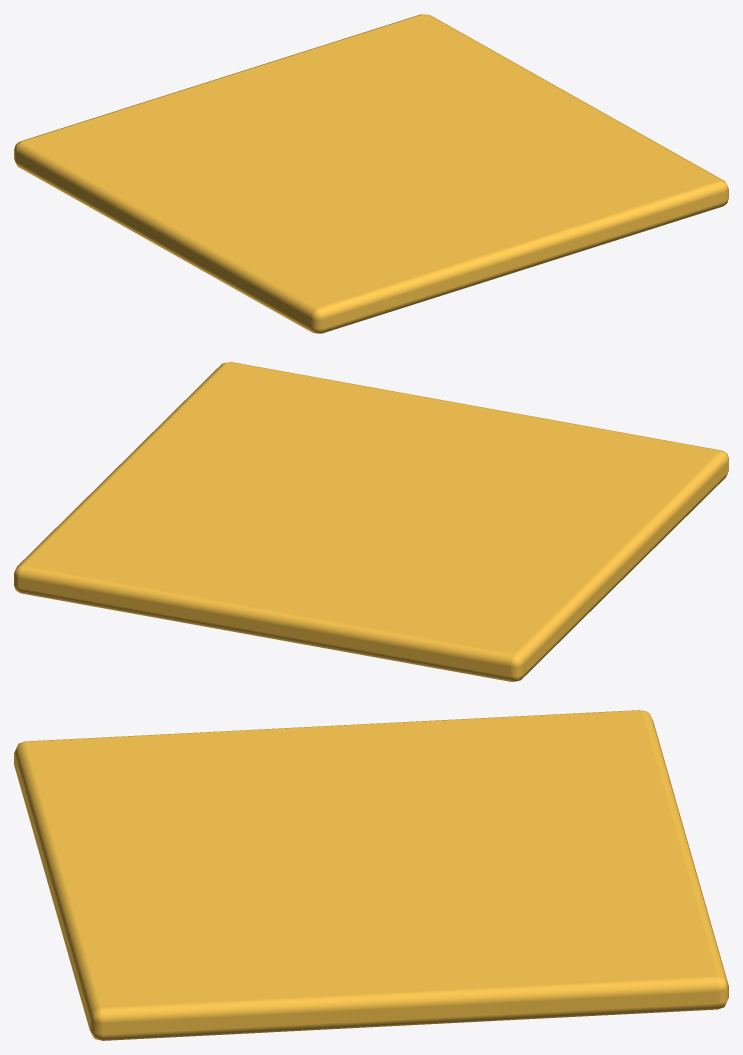
Rendered from cheese.glb.
3 views of the same model, one above another, from view 1: azimuth 30°, elevation 25°; view 2: azimuth 150°, elevation 25°; view 3: azimuth 270°, elevation 25° (orthographic). The views are drawn at different scales.
Parts seen in each view (by area): view 1: cheese; view 2: cheese; view 3: cheese.
Boxes of the visible parts, x1,y1,x2,y2 form: cheese: (14, 14, 728, 333); cheese: (14, 362, 728, 681); cheese: (14, 710, 728, 1040).
Bounding box in the file's own units: 0.5528 × 0.028 × 0.5441.
